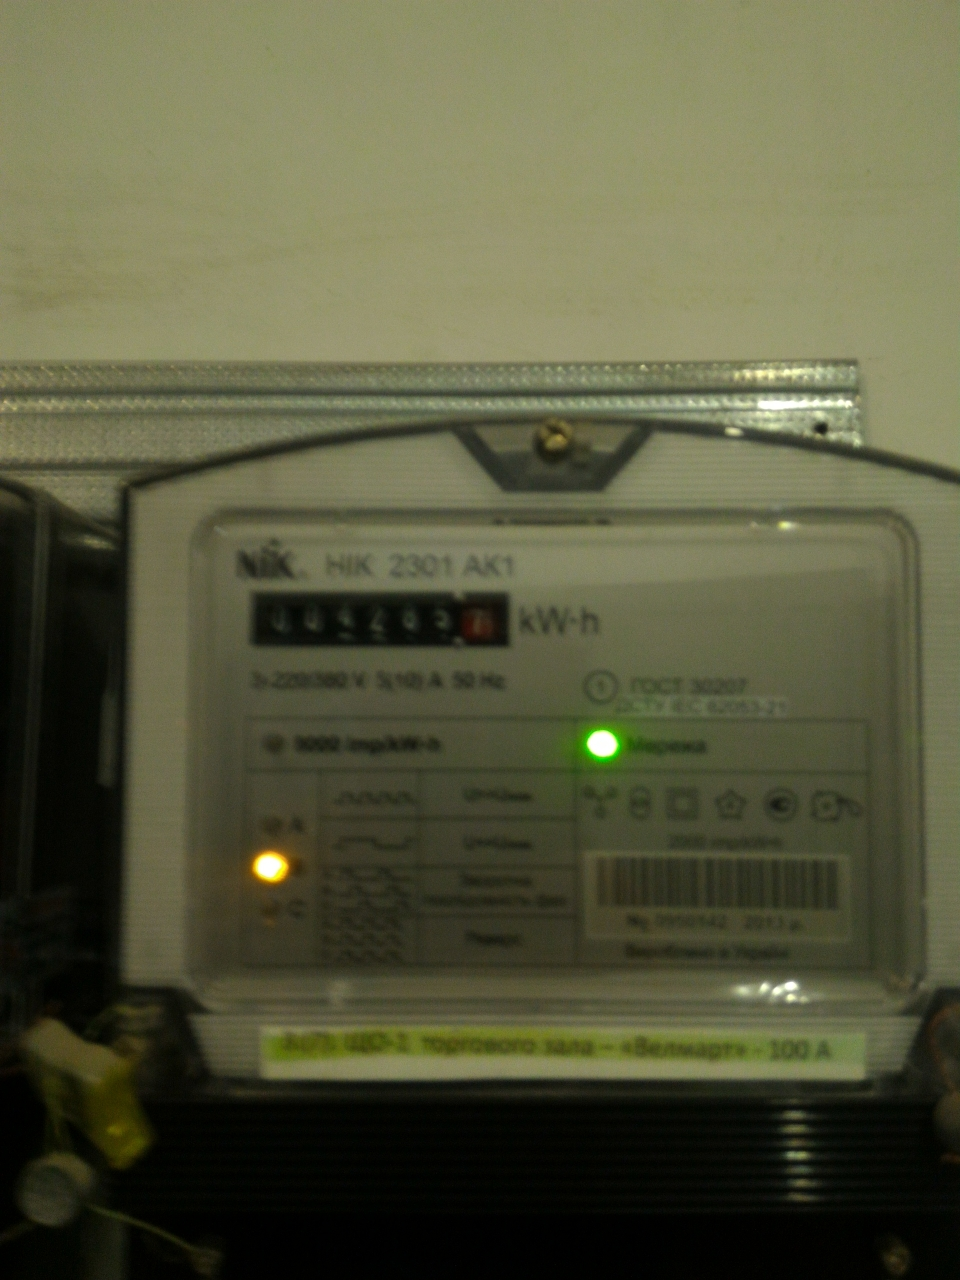0: (267, 601, 289, 633), (301, 601, 322, 633)
2: (367, 602, 388, 634)
4: (334, 597, 355, 630)
5: (431, 599, 452, 631)
7: (465, 605, 486, 636)
8: (399, 600, 419, 632)
screen: (243, 581, 523, 658)
